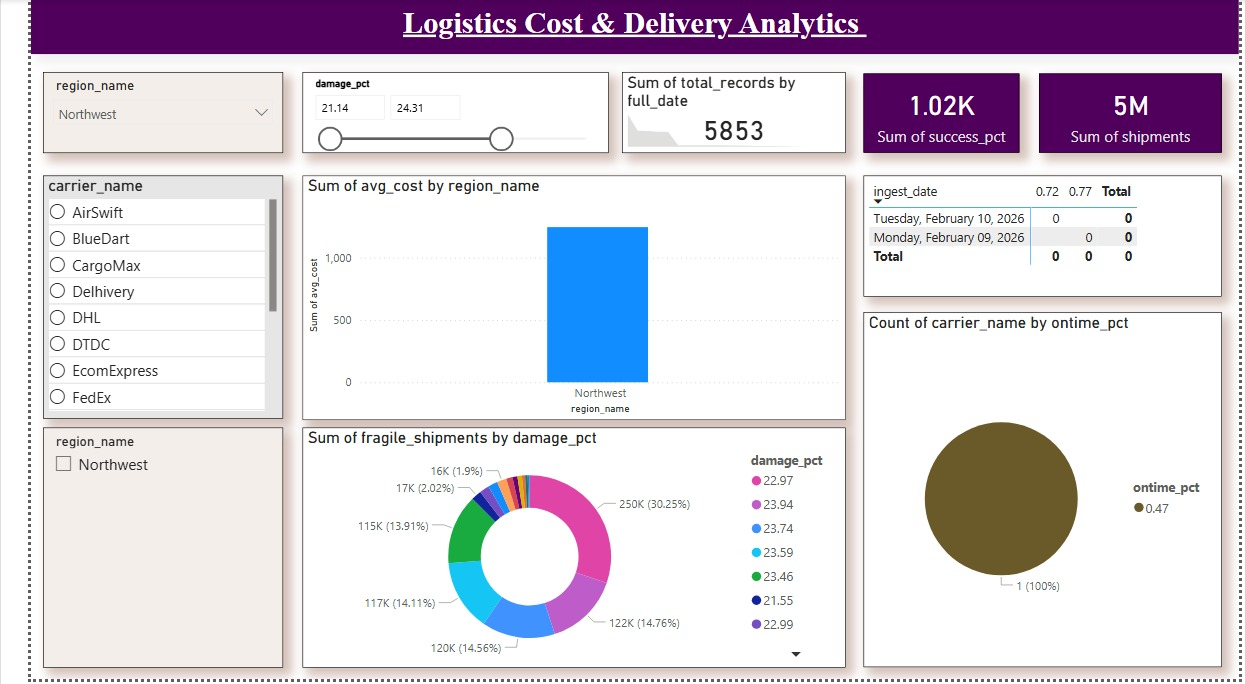

This screenshot's page, from the dashboard's own definition file:
{"tool":"powerbi","page":{"name":"Page 1","canvas":[1280,720],"ordinal":0},"visuals":[{"type":"pieChart","fields":{"Category":["agg_carrier_perf.ontime_pct"],"Y":["CountNonNull(agg_carrier_perf.carrier_name)"]},"box":[882.8,330.8,380.2,377],"z":0},{"type":"columnChart","fields":{"Category":["agg_region_cost.region_name"],"Y":["Sum(agg_region_cost.avg_cost)"]},"box":[287.9,186.1,575.8,259.3],"z":1000},{"type":"textbox","box":[0,0,1280.4,57.3],"z":2000},{"type":"card","fields":{"Values":["Sum(agg_monthly_kpi.shipments)"]},"box":[1068.9,77.9,194.1,84.3],"z":3000},{"type":"slicer","fields":{"Values":["agg_region_cost.region_name"]},"box":[12.7,76.3,254.5,85.9],"z":4000},{"type":"card","fields":{"Values":["Sum(agg_delivery_success.success_pct)"]},"box":[882.8,77.9,165.4,84.3],"z":5000},{"type":"donutChart","fields":{"Category":["agg_fragile_damage.damage_pct"],"Y":["Sum(agg_fragile_damage.fragile_shipments)"]},"box":[287.9,453.3,575.8,254.5],"z":6000},{"type":"pivotTable","fields":{"Rows":["agg_dq_matrix.ingest_date"],"Columns":["agg_dq_matrix.outlier_pct","agg_dq_matrix.anomaly_pct"],"Values":["Sum(agg_dq_matrix.critical_count)"]},"box":[882.8,186.1,380.2,128.8],"z":7000},{"type":"slicer","fields":{"Values":["agg_fragile_damage.damage_pct"]},"box":[287.9,76.3,324.5,85.9],"z":8000},{"type":"listSlicer","fields":{"Values":["agg_carrier_perf.carrier_name"]},"box":[12.7,186.1,254.5,257.7],"z":9000},{"type":"slicer","fields":{"Values":["agg_region_cost.region_name"]},"box":[12.7,453.3,254.5,254.5],"z":10000},{"type":"kpi","fields":{"Indicator":["Sum(agg_dq_daily.total_records)"],"TrendLine":["agg_dq_daily.full_date"]},"box":[626.7,76.3,237,85.9],"z":11000}]}

Visuals, with their boxes in screenshot pixels (x1, y1, x2, y2), scaled from the page's 1280x720 canvas onto the 1245x684 screenshot:
pieChart - agg_carrier_perf.ontime_pct x CountNonNull(agg_carrier_perf.carrier_name): (859, 314, 1228, 672)
columnChart - agg_region_cost.region_name x Sum(agg_region_cost.avg_cost): (280, 177, 840, 423)
textbox: (0, 0, 1244, 54)
card - Sum(agg_monthly_kpi.shipments): (1040, 74, 1228, 154)
slicer - agg_region_cost.region_name: (12, 72, 260, 154)
card - Sum(agg_delivery_success.success_pct): (859, 74, 1020, 154)
donutChart - agg_fragile_damage.damage_pct x Sum(agg_fragile_damage.fragile_shipments): (280, 431, 840, 672)
pivotTable - agg_dq_matrix.ingest_date x agg_dq_matrix.outlier_pct: (859, 177, 1228, 299)
slicer - agg_fragile_damage.damage_pct: (280, 72, 596, 154)
listSlicer - agg_carrier_perf.carrier_name: (12, 177, 260, 422)
slicer - agg_region_cost.region_name: (12, 431, 260, 672)
kpi - Sum(agg_dq_daily.total_records) x agg_dq_daily.full_date: (610, 72, 840, 154)
